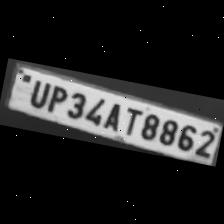2: (193, 124, 218, 158)
3: (62, 86, 88, 120)
4: (83, 91, 108, 125)
6: (173, 119, 199, 152)
8: (155, 113, 180, 147), (137, 108, 162, 141)
A: (101, 97, 125, 130)
P: (44, 80, 68, 114)
T: (119, 102, 143, 136)
U: (24, 74, 51, 108)
